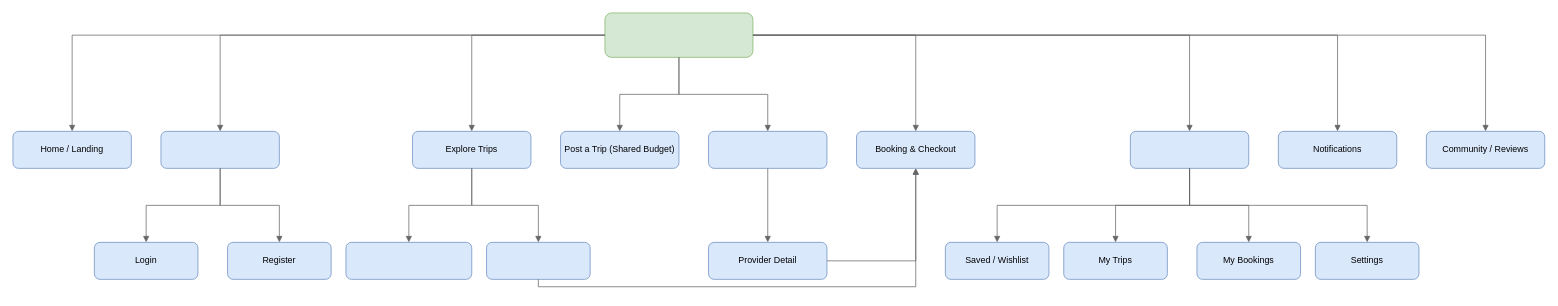
Some shapes in this 1558 by 306 pixel diagram are drawn without their labels. The centre of each missing label's shape, as x and y in pixels:
"Login / Register" belongs at point (219, 149).
"My Profile" belongs at point (1189, 149).
"Search & Filters (Camping, Trek, Tour)" belongs at point (408, 260).
"Tour Providers" belongs at point (767, 149).
"Traveler App (commutrip)" belongs at point (678, 34).
"Trip Detail" belongs at point (538, 260).
